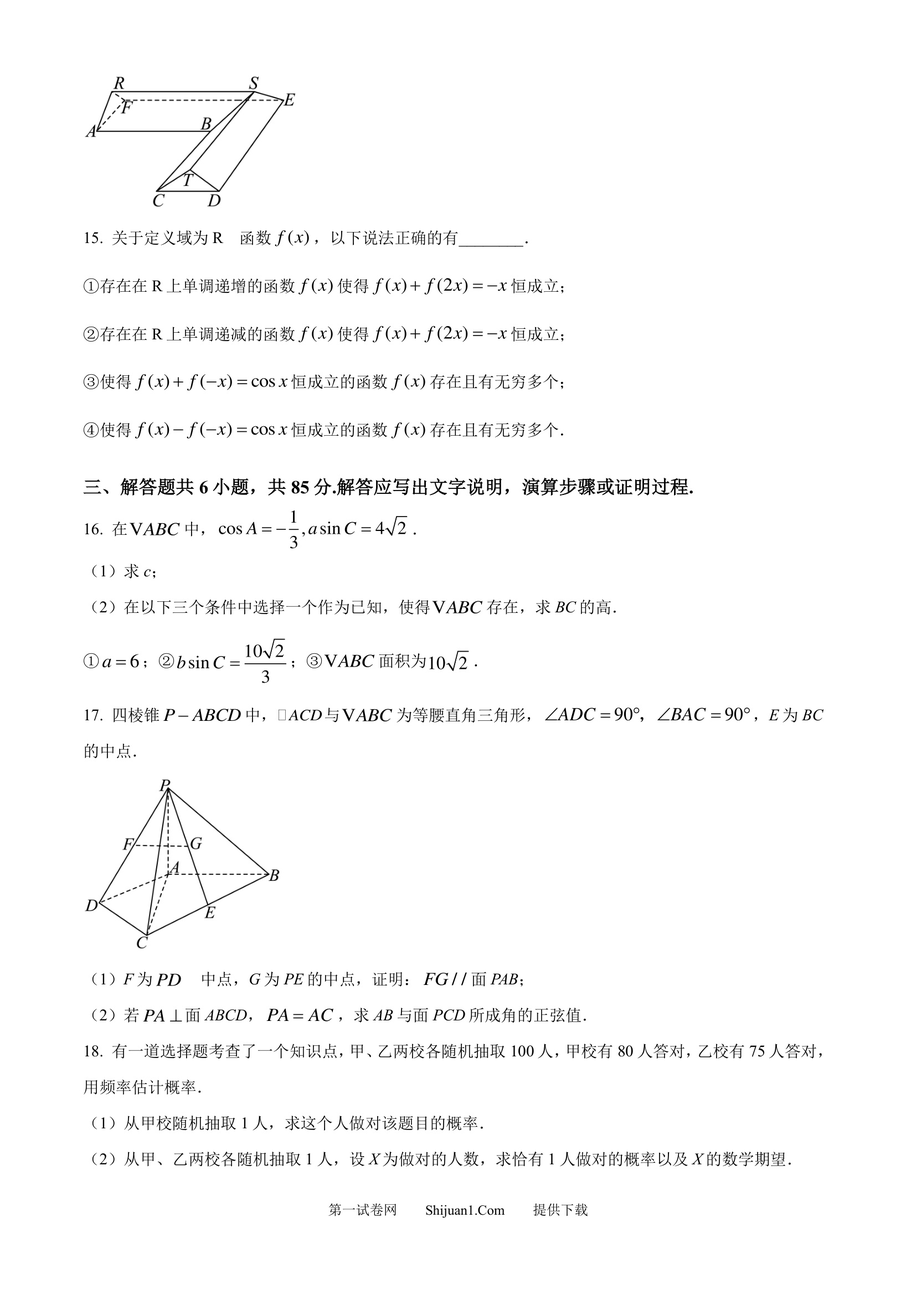question: (75, 699, 850, 1034), (68, 223, 595, 459), (73, 1036, 814, 1195), (75, 509, 639, 692), (63, 49, 369, 223)
